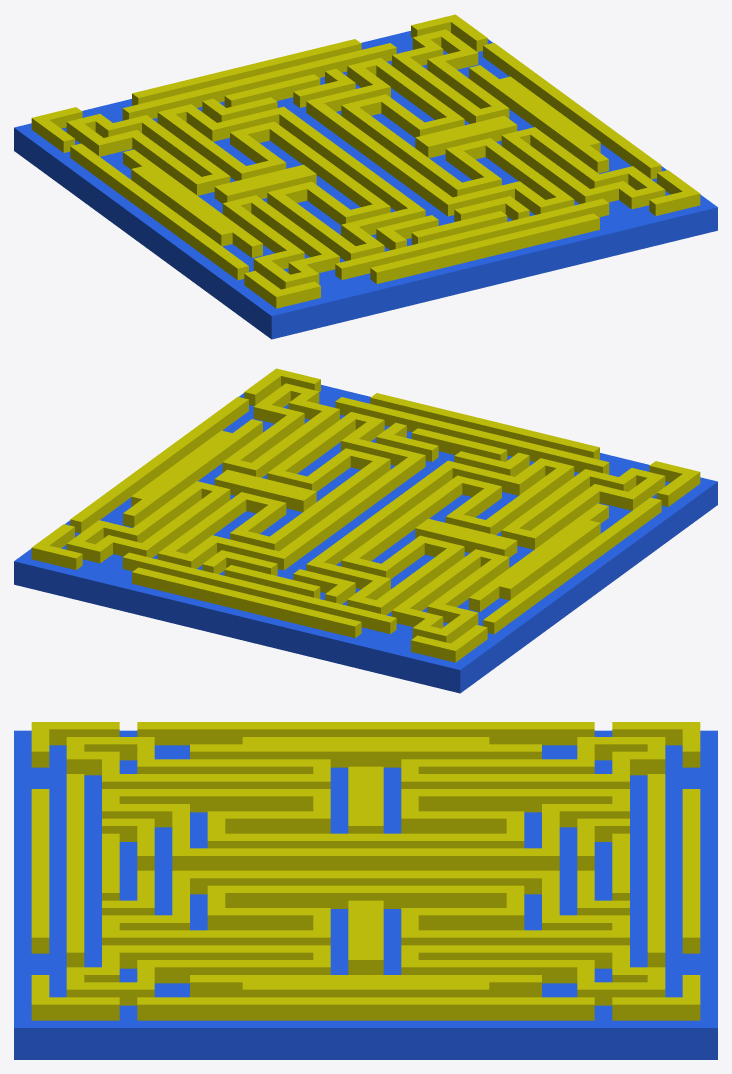
File: tile_floor_mula_1.fbx
The picture shows the model from 3 angles, top to bottom: view 1: azimuth 30°, elevation 25°; view 2: azimuth 150°, elevation 25°; view 3: azimuth 270°, elevation 25°; orthographic projection. The views are drawn at different scales.
Parts seen in each view (by area): view 1: pattern_tile1; view 2: pattern_tile1; view 3: pattern_tile1.
Boxes of the visible parts, x1,y1,x2,y2 form: pattern_tile1: (14,14,717,339); pattern_tile1: (14,368,717,693); pattern_tile1: (14,722,717,1059).
Size of the model in its own units: 32.4 by 2.43 by 32.4.
